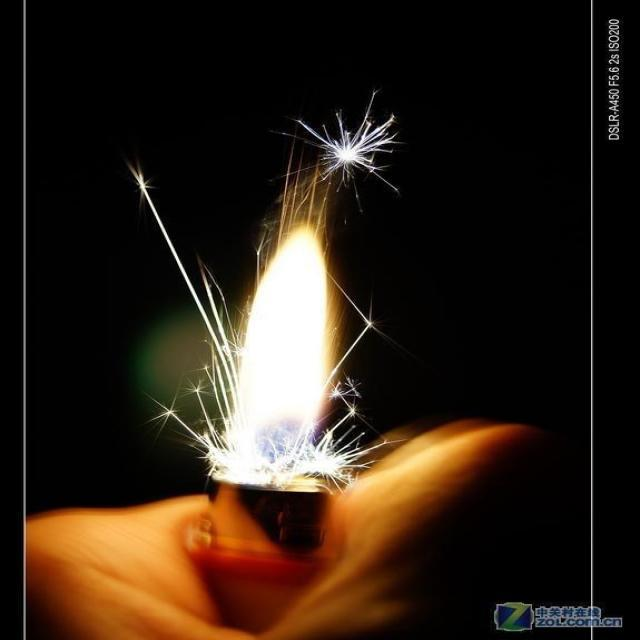Fire: (124, 90, 416, 488)
